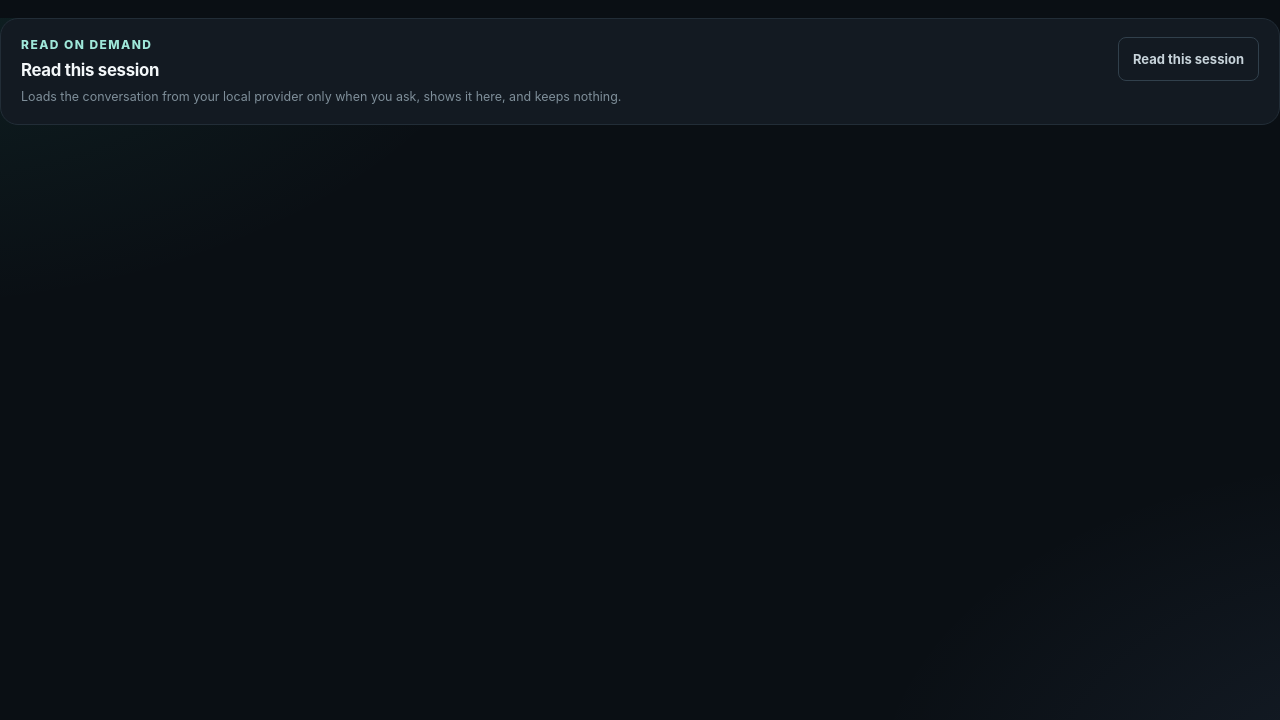
Scenario: SessionTranscriptPane › fetches nothing until asked, then renders turns and collapses tool calls
Click the button "Read this session": x=1188, y=59 [1118,37,1259,81]
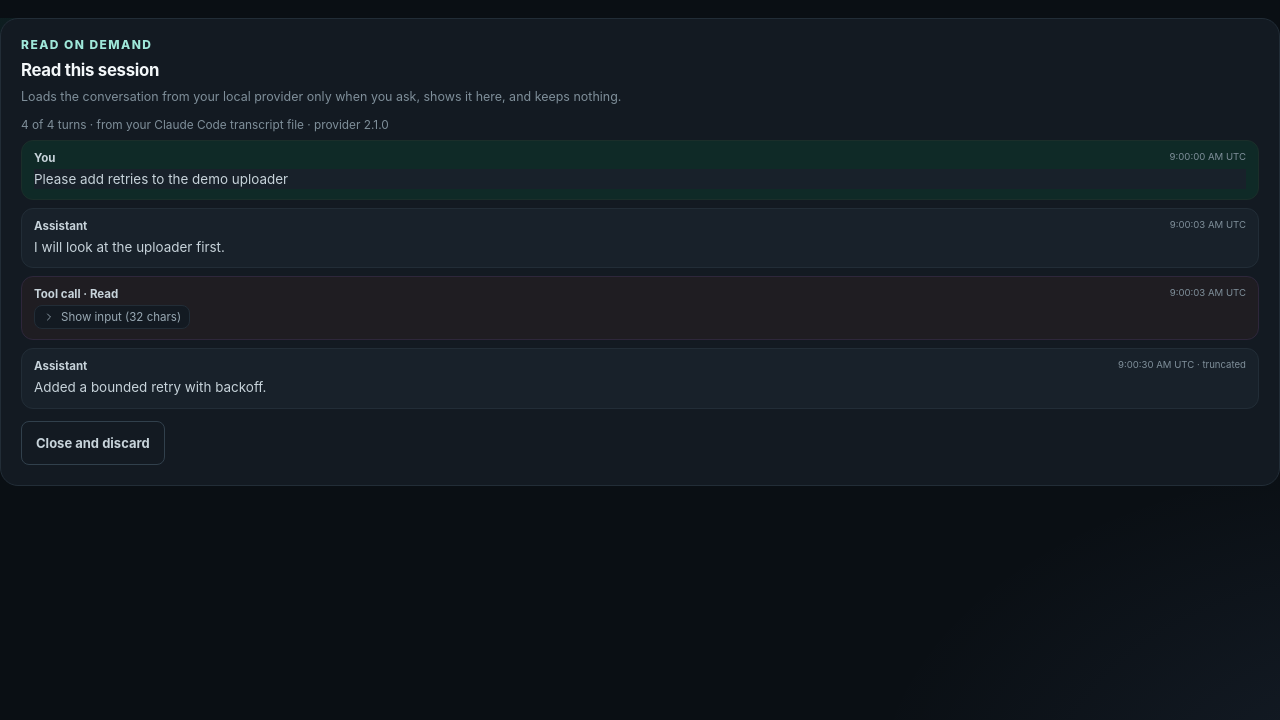
Check: the text "Please add retries to the demo uploader" is shown, box [34,169,1246,189]
Check: the text "4 of 4 turns" is shown, box [21,118,389,132]
Check: the text "your Claude Code transcript file" is shown, box [126,118,304,132]
Click the button "Show input (32 chars)": x=112, y=318 [34,306,190,330]
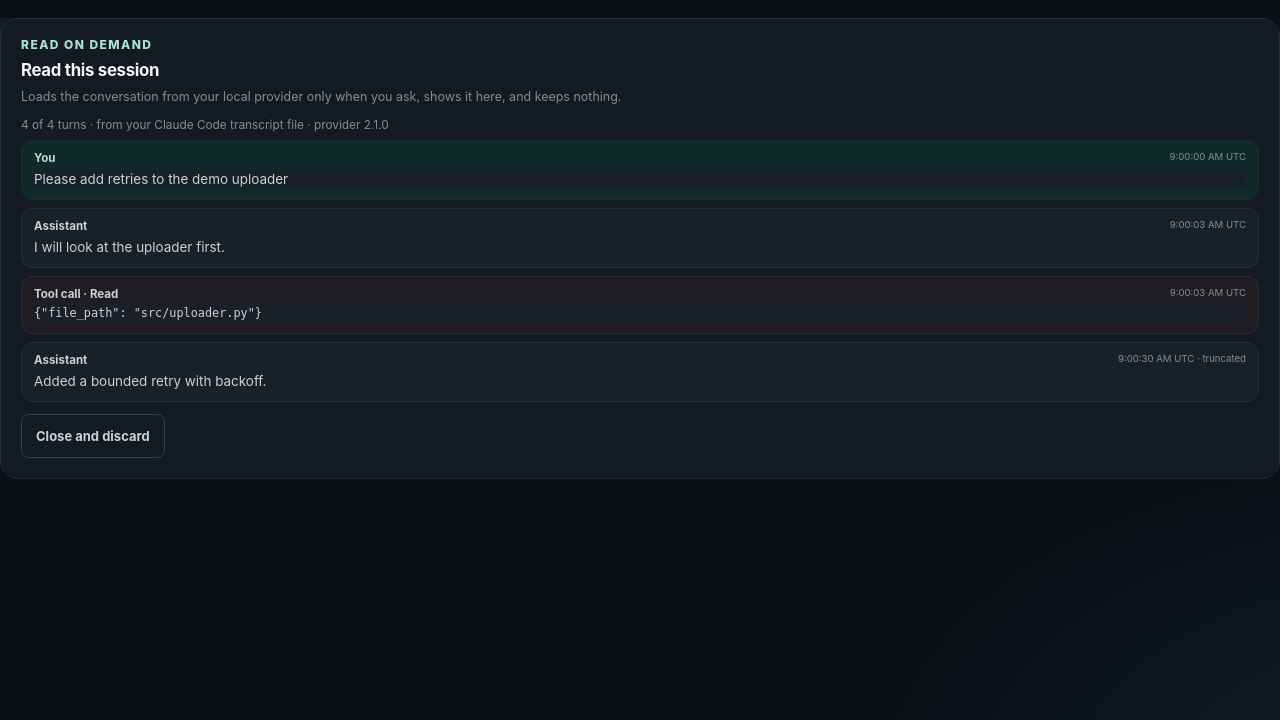
Check: the text "9:00:30 AM UTC · truncated" is shown, box [1118,353,1246,367]
Check: the text "{\"file_path\": \"src/uploader.py\"}" is shown, box [34,306,1246,323]
Click the button "Close and discard": x=93, y=436 [21,414,165,458]
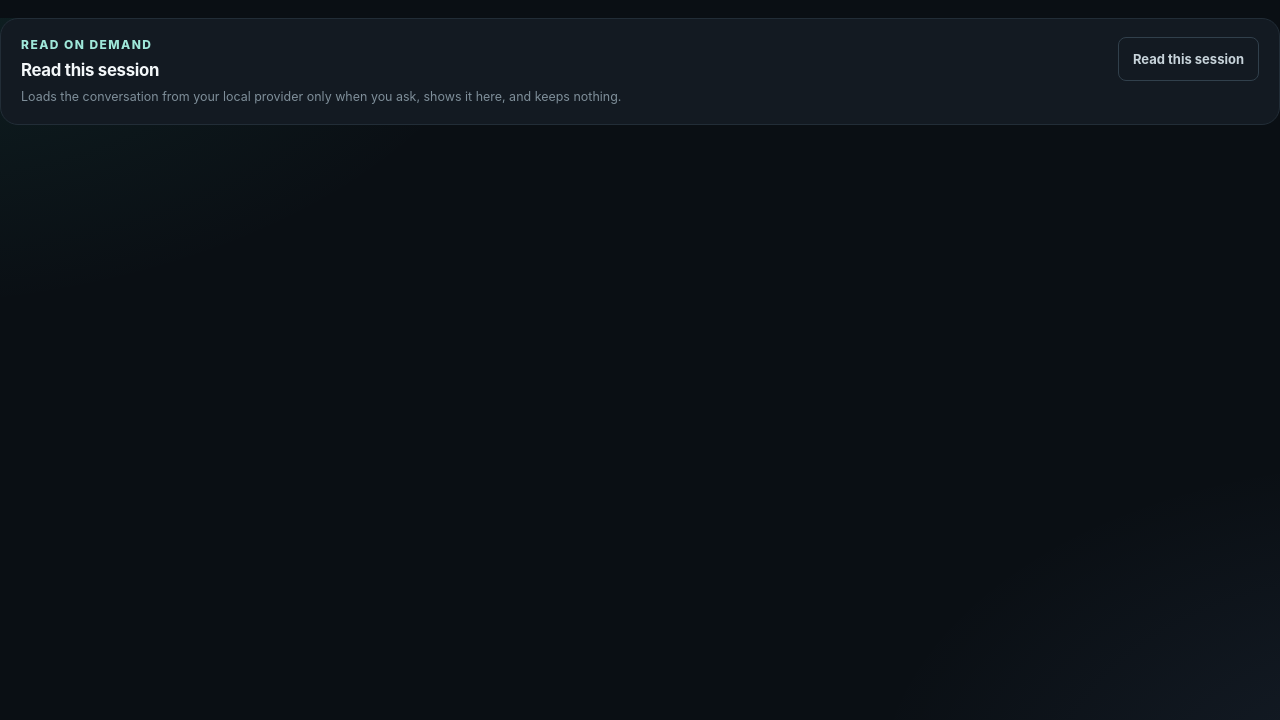
Check: the text "Please add retries to the demo uploader" is gone
